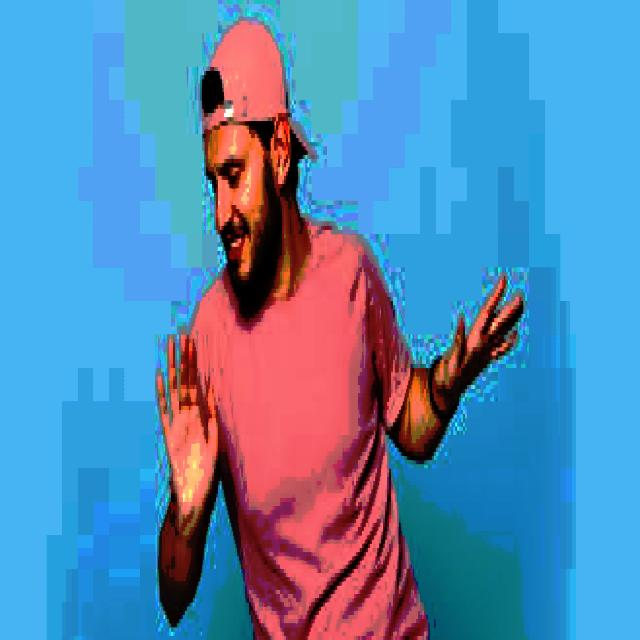TOPI: (197, 8, 317, 159)
